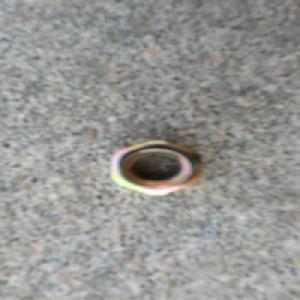Nut: (109, 138, 203, 195)
